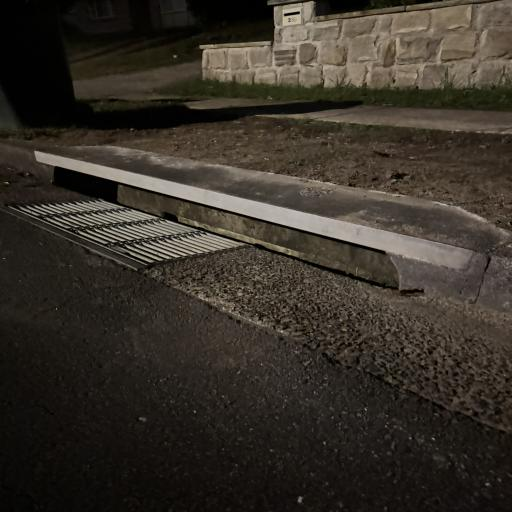gutter: (14, 146, 499, 298)
